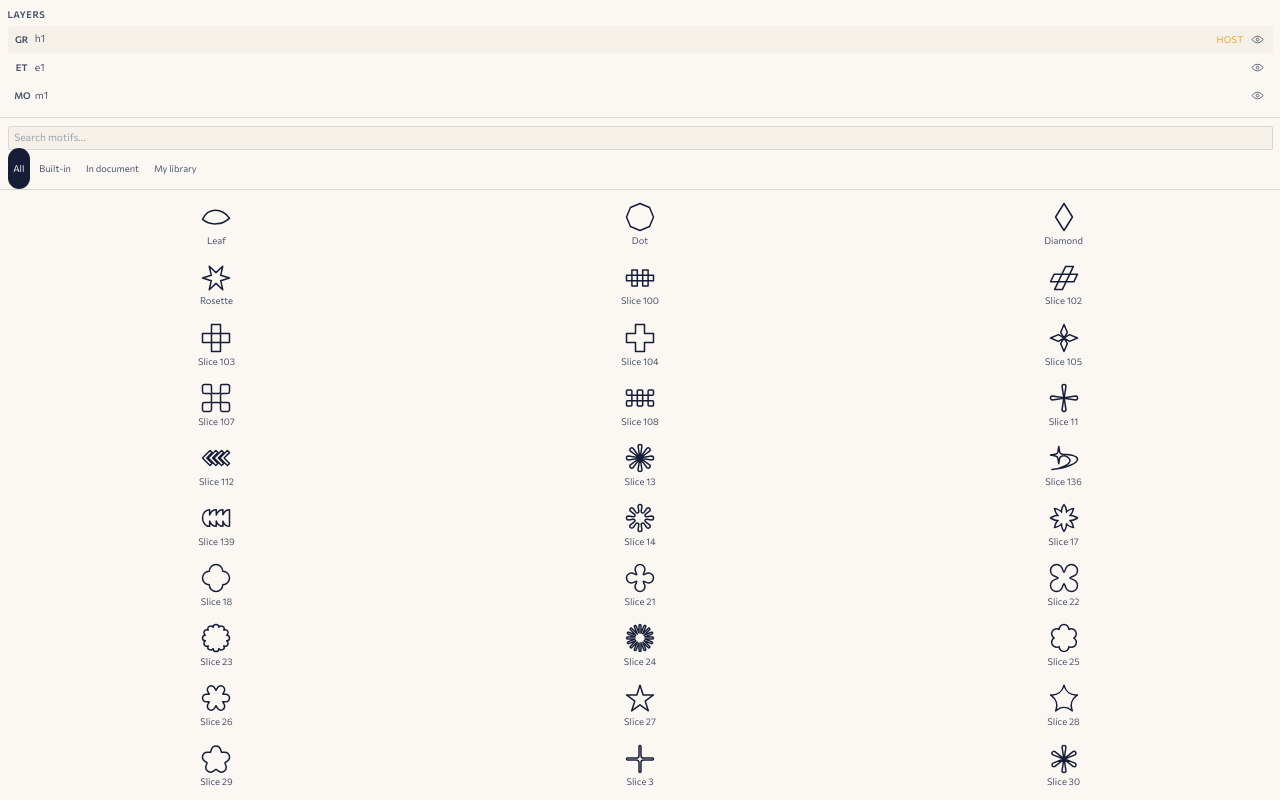
Scenario: MotifLibraryPanel › semantic list structure › the empty grid renders its hint as a list item (valid ul structure)
This screenshot has width=1280, height=800.
Type "zzz-no-match" into the field labelled "Search motifs" at (640, 138), box 8,126 -> 1272,150
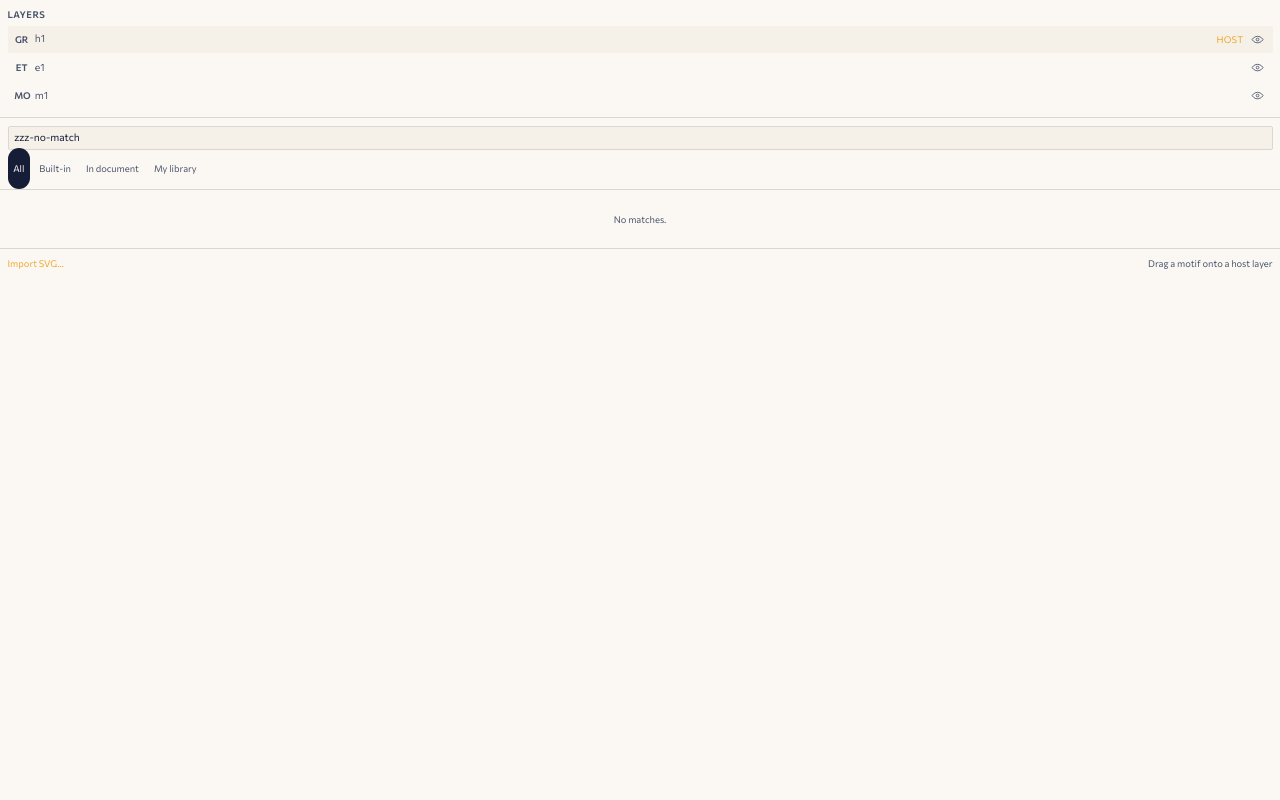
Check: the list item "No matches." is shown, box 614,213 -> 666,225
